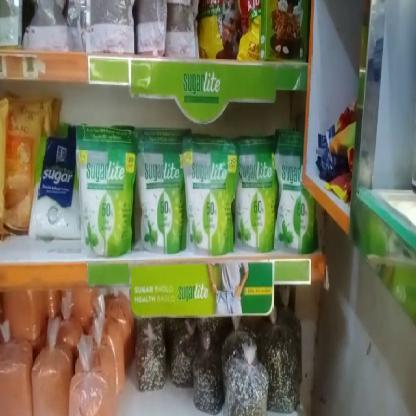SUGARLITE POUCH 500G: (78, 132, 132, 253), (184, 146, 235, 256), (133, 145, 183, 253), (234, 152, 274, 253), (274, 151, 305, 254)
